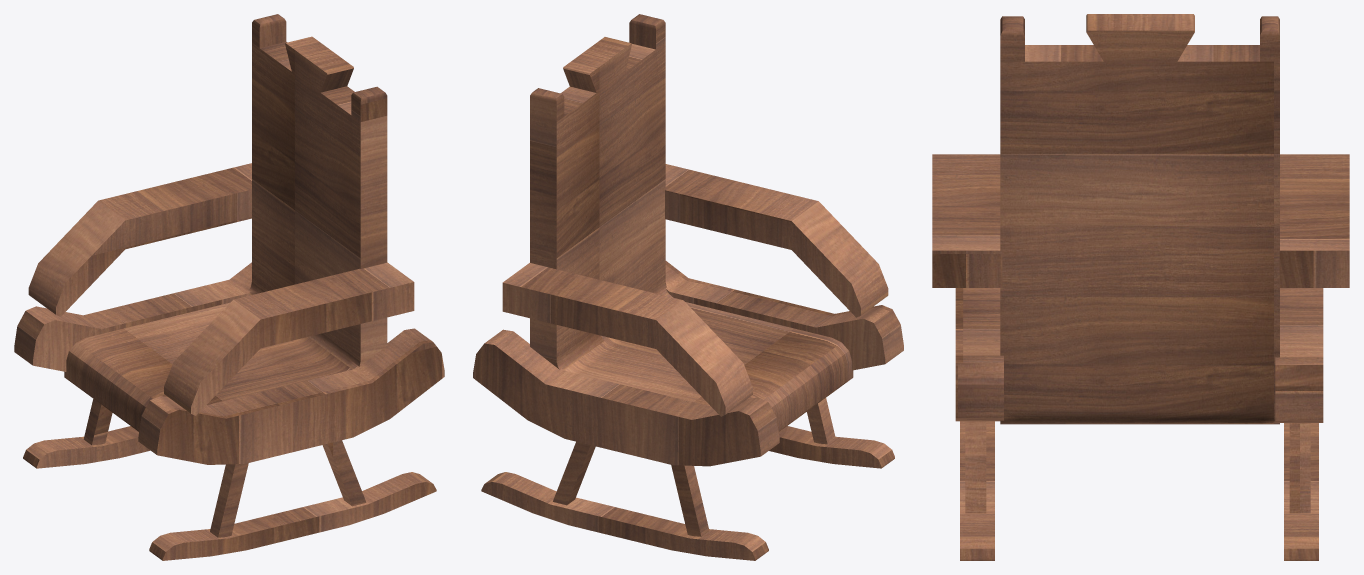
The model's file is Mecedora.obj.
3 views of the same model, side by side, from view 1: azimuth 30°, elevation 25°; view 2: azimuth 150°, elevation 25°; view 3: azimuth 270°, elevation 25° (orthographic). The views are drawn at different scales.
Visible parts, largest first — view 1: Mecedora1; view 2: Mecedora1; view 3: Mecedora1.
Boxes of the visible parts, x1,y1,x2,y2 form: Mecedora1: [14, 14, 444, 560]; Mecedora1: [473, 14, 903, 560]; Mecedora1: [932, 14, 1349, 560].
Size of the model in its own units: 0.6464 by 0.8785 by 0.6324.
1 material, 1 textured.
